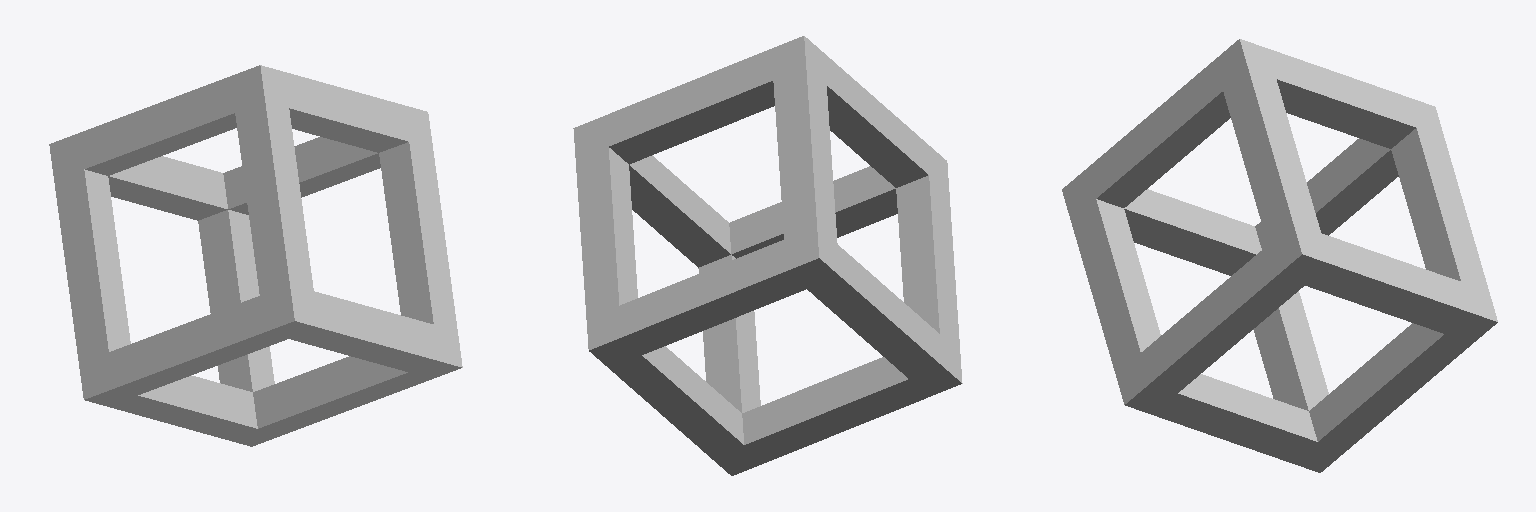
The model's file is Level1_entity_3.obj.
The picture shows the model from 3 angles: view 1: azimuth 30°, elevation 25°; view 2: azimuth 150°, elevation 25°; view 3: azimuth 270°, elevation 25°; orthographic projection.
Parts seen in each view (by area): view 1: Entity_2.001; view 2: Entity_2.001; view 3: Entity_2.001.
Boxes of the visible parts, box(x1,y1,x2,y2) form: Entity_2.001: box(49, 65, 462, 446); Entity_2.001: box(573, 36, 962, 475); Entity_2.001: box(1062, 39, 1497, 472).
Size of the model in its own units: 4.36 by 4.76 by 4.49.